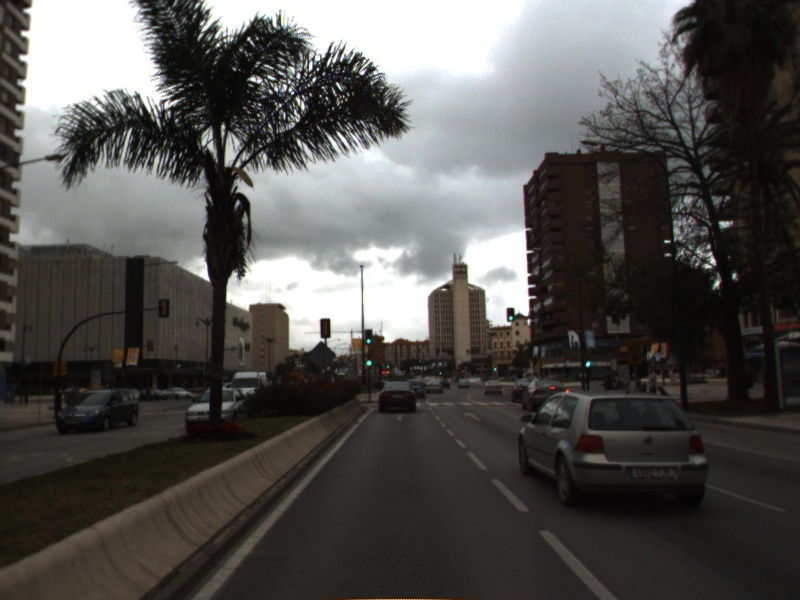STRAIGHT: (461, 410, 484, 423), (390, 411, 410, 423)
